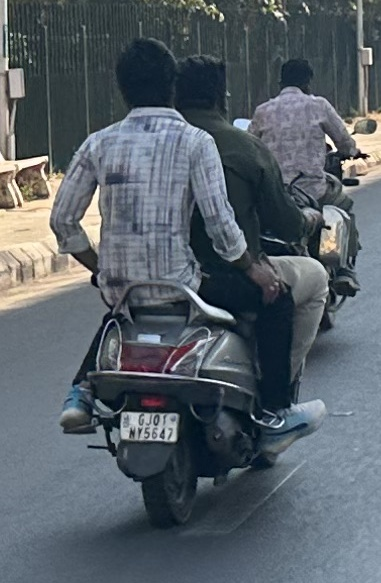BikeWithRider: (50, 38, 334, 532), (250, 54, 365, 331)
NoHelmet: (112, 39, 177, 112), (175, 57, 232, 123), (278, 55, 314, 99)
